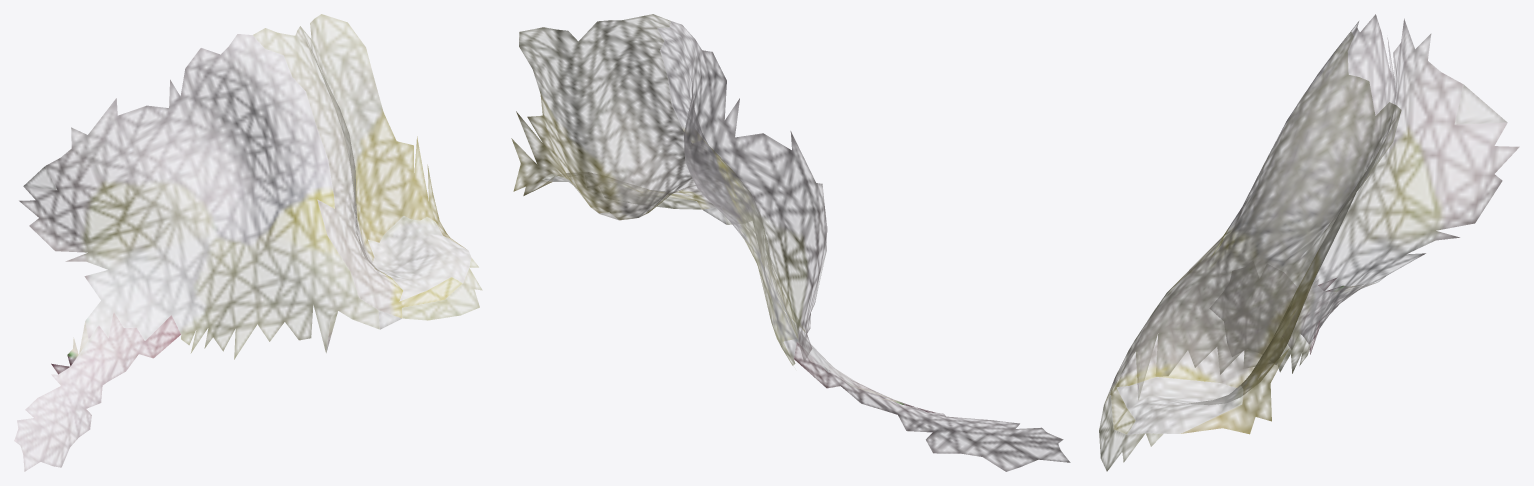
The model's file is Gitter5.glb.
The picture shows the model from 3 angles, left to right: view 1: azimuth 30°, elevation 25°; view 2: azimuth 150°, elevation 25°; view 3: azimuth 270°, elevation 25°; orthographic projection. The views are drawn at different scales.
Bounding box in the file's own units: 1.18 × 0.8914 × 0.693.
1 material, 1 textured.
